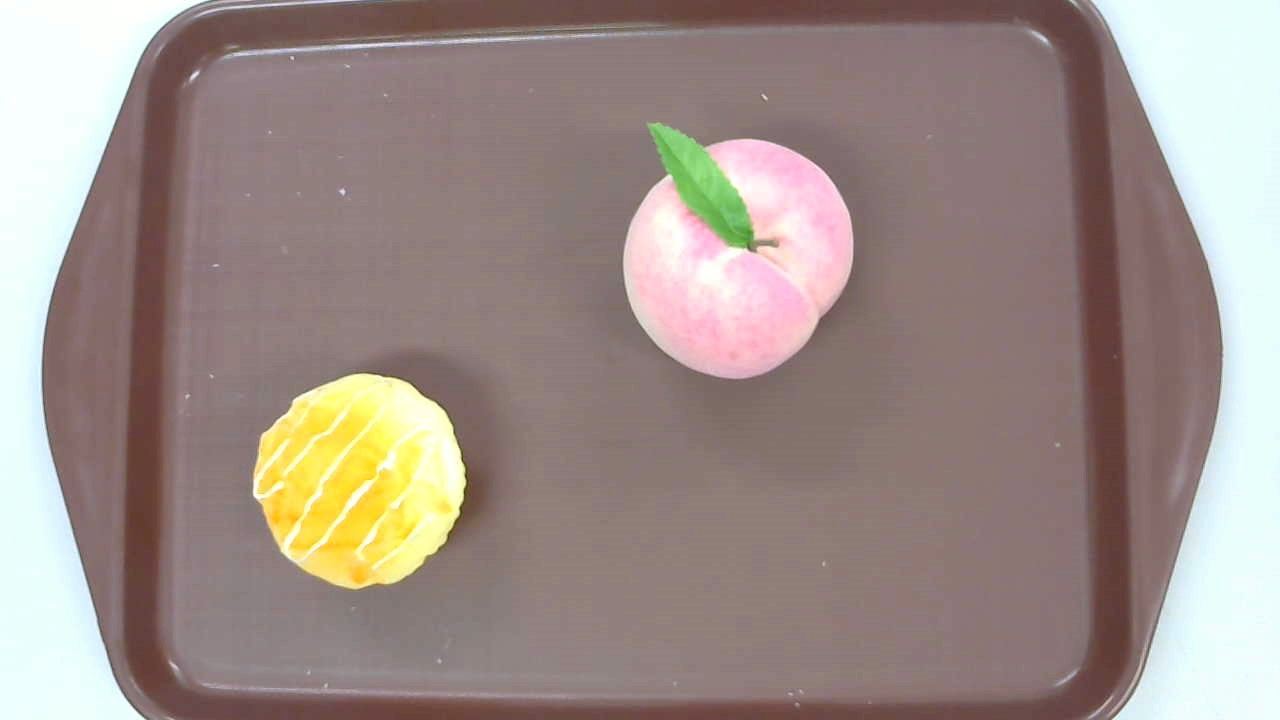cupcake: (253, 372, 466, 589)
peach: (622, 122, 854, 380)
